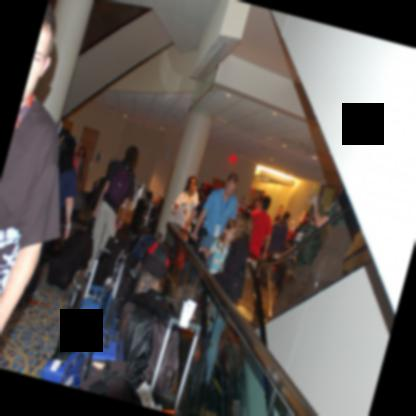backpack: (107, 163, 133, 205), (141, 242, 168, 278), (298, 227, 320, 264), (89, 177, 104, 205)
suitcase: (131, 317, 200, 416), (66, 281, 117, 359), (46, 217, 92, 290), (80, 358, 131, 402), (38, 344, 86, 389), (91, 236, 115, 287), (130, 232, 158, 271), (116, 301, 136, 354), (90, 328, 122, 359), (128, 198, 145, 228)
